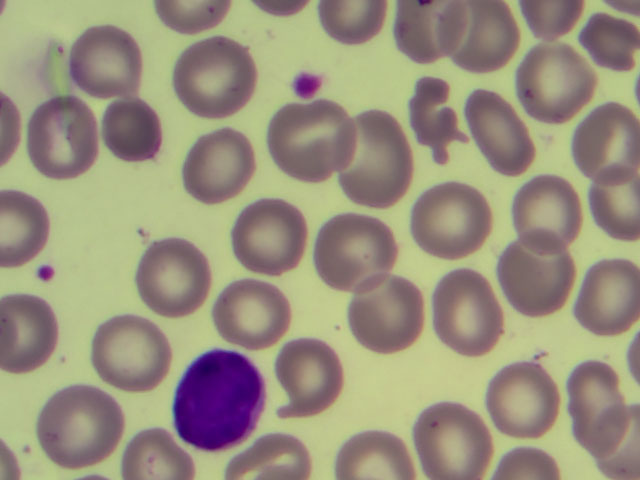Platelets: (289, 67, 326, 100), (34, 262, 62, 286)
RBC: (68, 20, 149, 98), (90, 91, 171, 169), (29, 99, 110, 177), (180, 126, 261, 204), (177, 35, 258, 113), (233, 190, 314, 268), (137, 233, 218, 311), (89, 308, 170, 386), (41, 383, 122, 461), (270, 338, 351, 416), (215, 271, 296, 349), (321, 215, 402, 293), (347, 115, 428, 193), (267, 96, 348, 174), (385, 77, 466, 155), (455, 97, 536, 175), (452, 1, 533, 79), (510, 49, 591, 127), (559, 11, 640, 89), (559, 106, 640, 184), (505, 170, 586, 248), (412, 182, 493, 260), (430, 281, 511, 359), (346, 280, 427, 358), (501, 235, 582, 313), (559, 254, 640, 332), (559, 363, 640, 441), (487, 362, 568, 440), (419, 402, 500, 480), (402, 1, 483, 78), (1, 290, 56, 378), (333, 423, 413, 480), (228, 423, 308, 480)
WBC: (161, 349, 267, 451)
